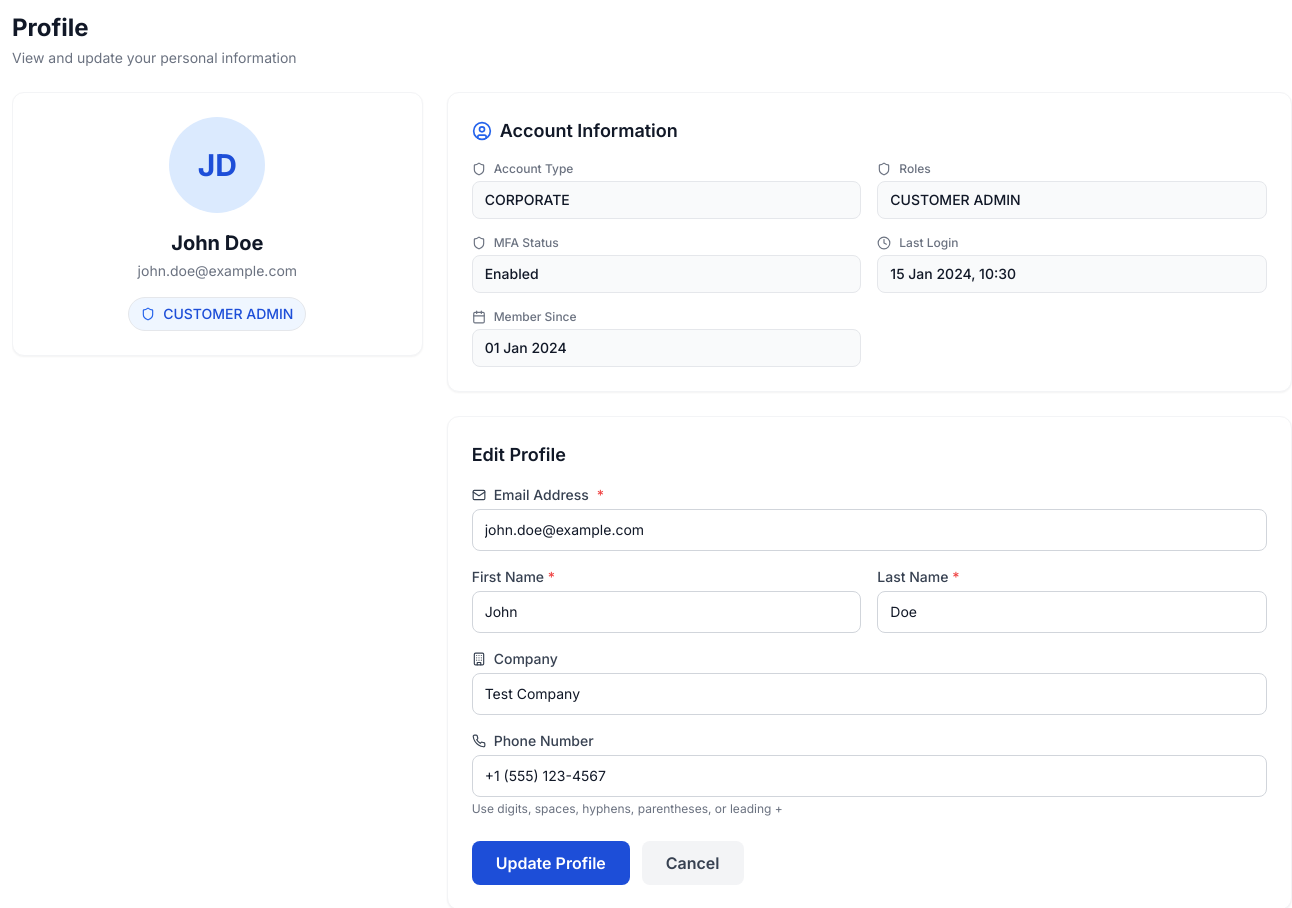
Test case: ProfilePage Component › should display error message when update fails
Note: Update first name
Step 1. Type "Jane" into the field with placeholder "John" below "First Name" → [667, 612], box [472, 591, 861, 633]
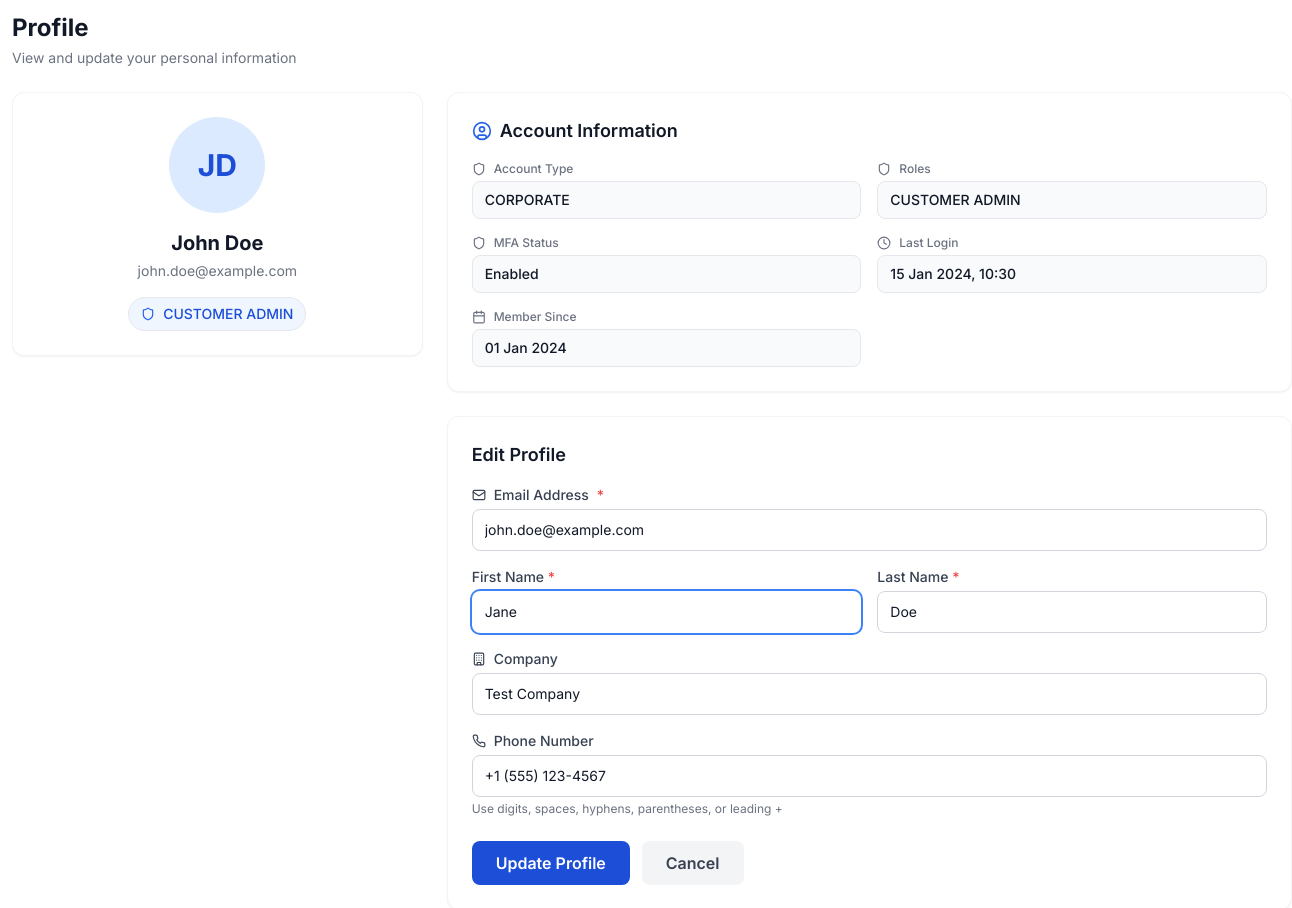
Note: Submit form
Step 2. Click the button "Update Profile" → [551, 863], box [472, 841, 630, 885]
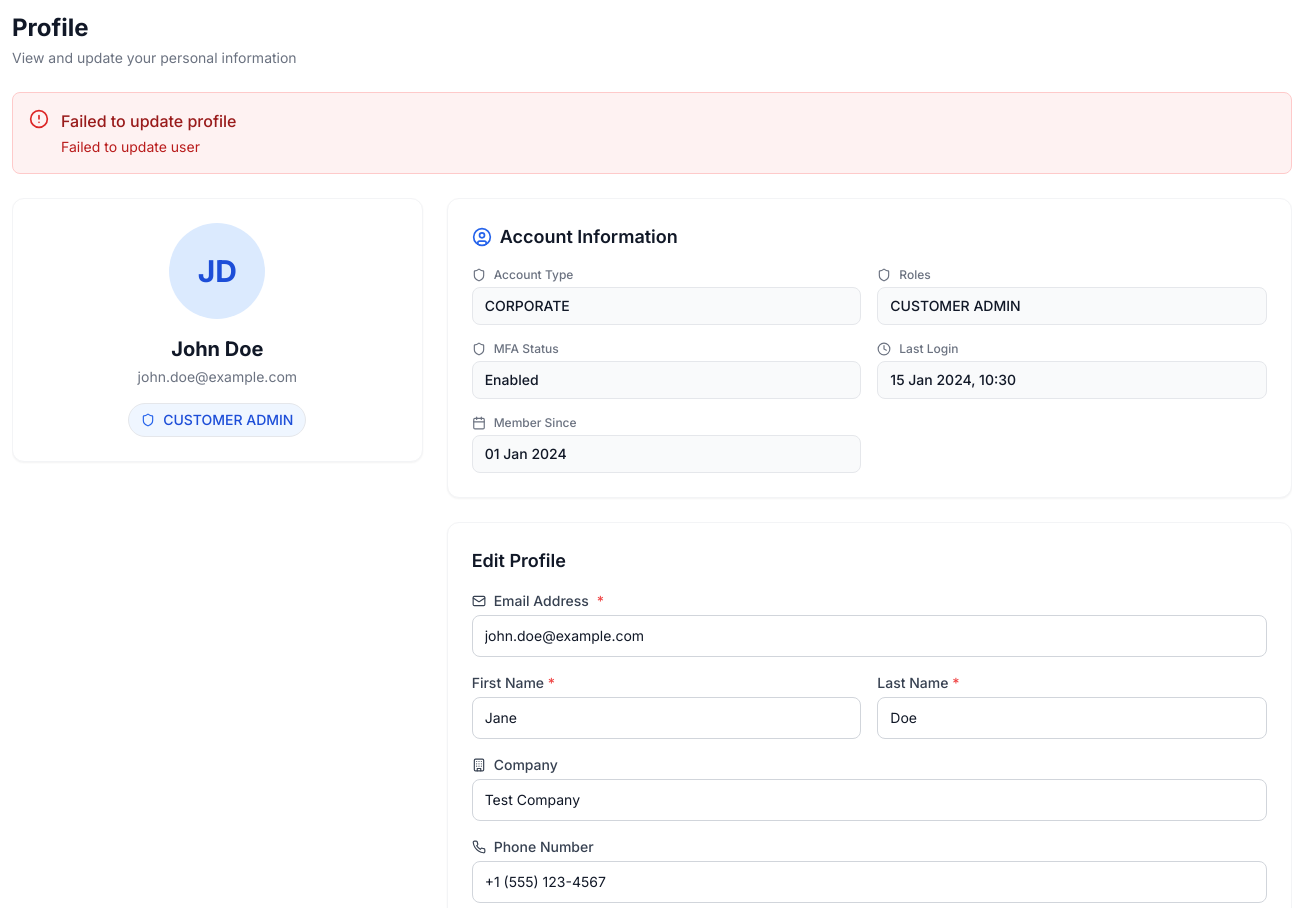
Expected: the text "Failed to update profile" is shown, [61, 111, 236, 131]
Expected: the text "Failed to update user" is shown, [61, 138, 200, 155]
